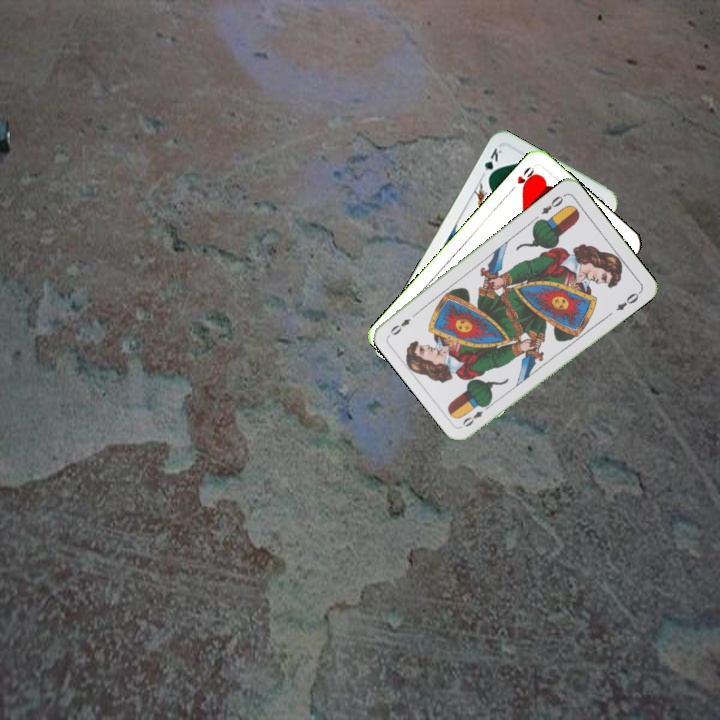EO: (458, 400, 493, 430), (537, 190, 568, 217)
GK: (480, 143, 505, 183)
HO: (506, 163, 539, 195)
